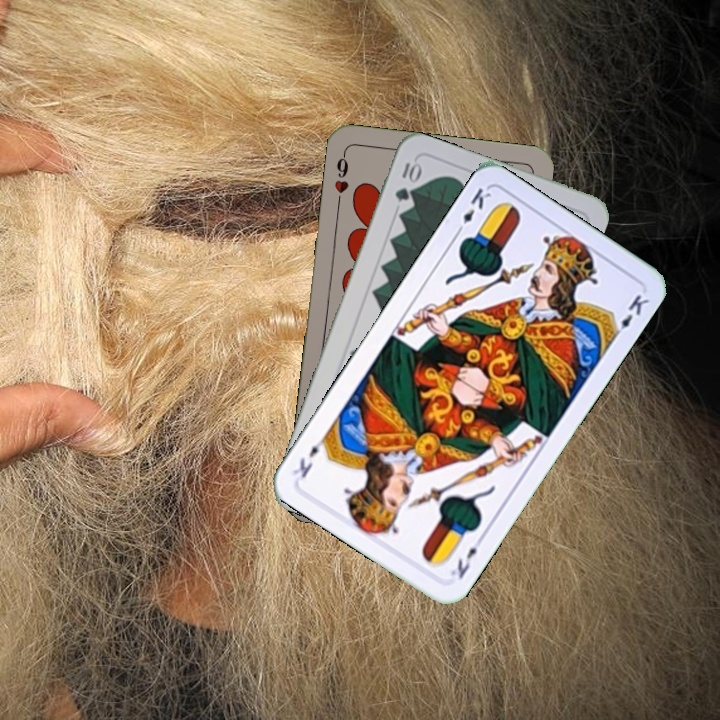EK: (451, 184, 494, 238), (446, 531, 487, 582)
G10: (390, 156, 423, 205)
H9: (330, 148, 351, 208)
